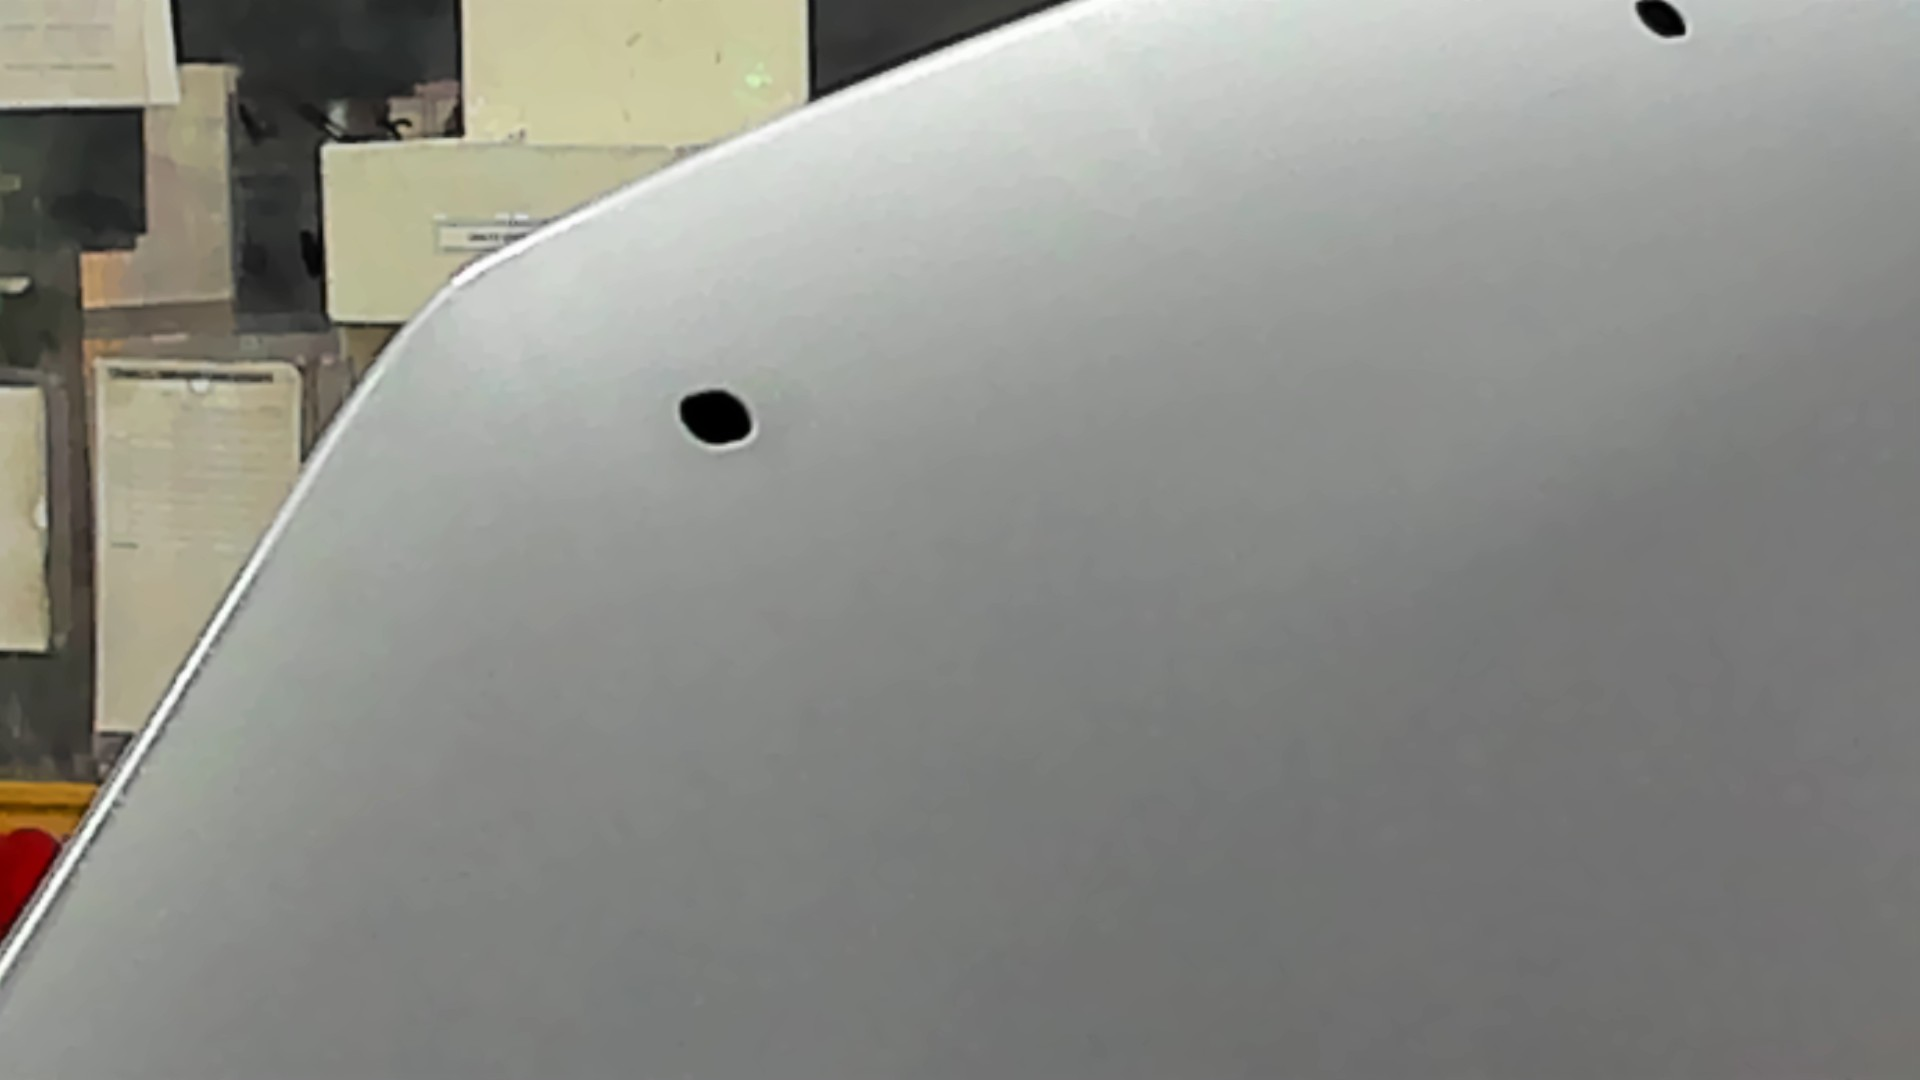chico: (670, 381, 765, 458), (1618, 1, 1706, 45)
